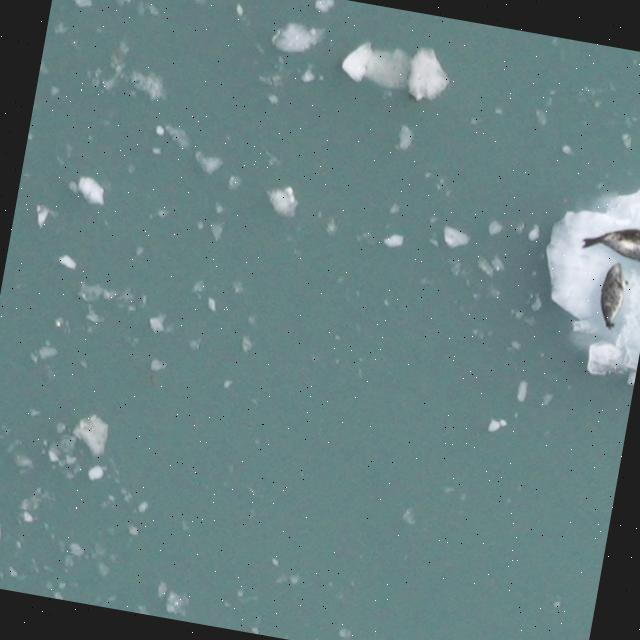seal: (576, 218, 640, 273), (591, 257, 632, 334)
